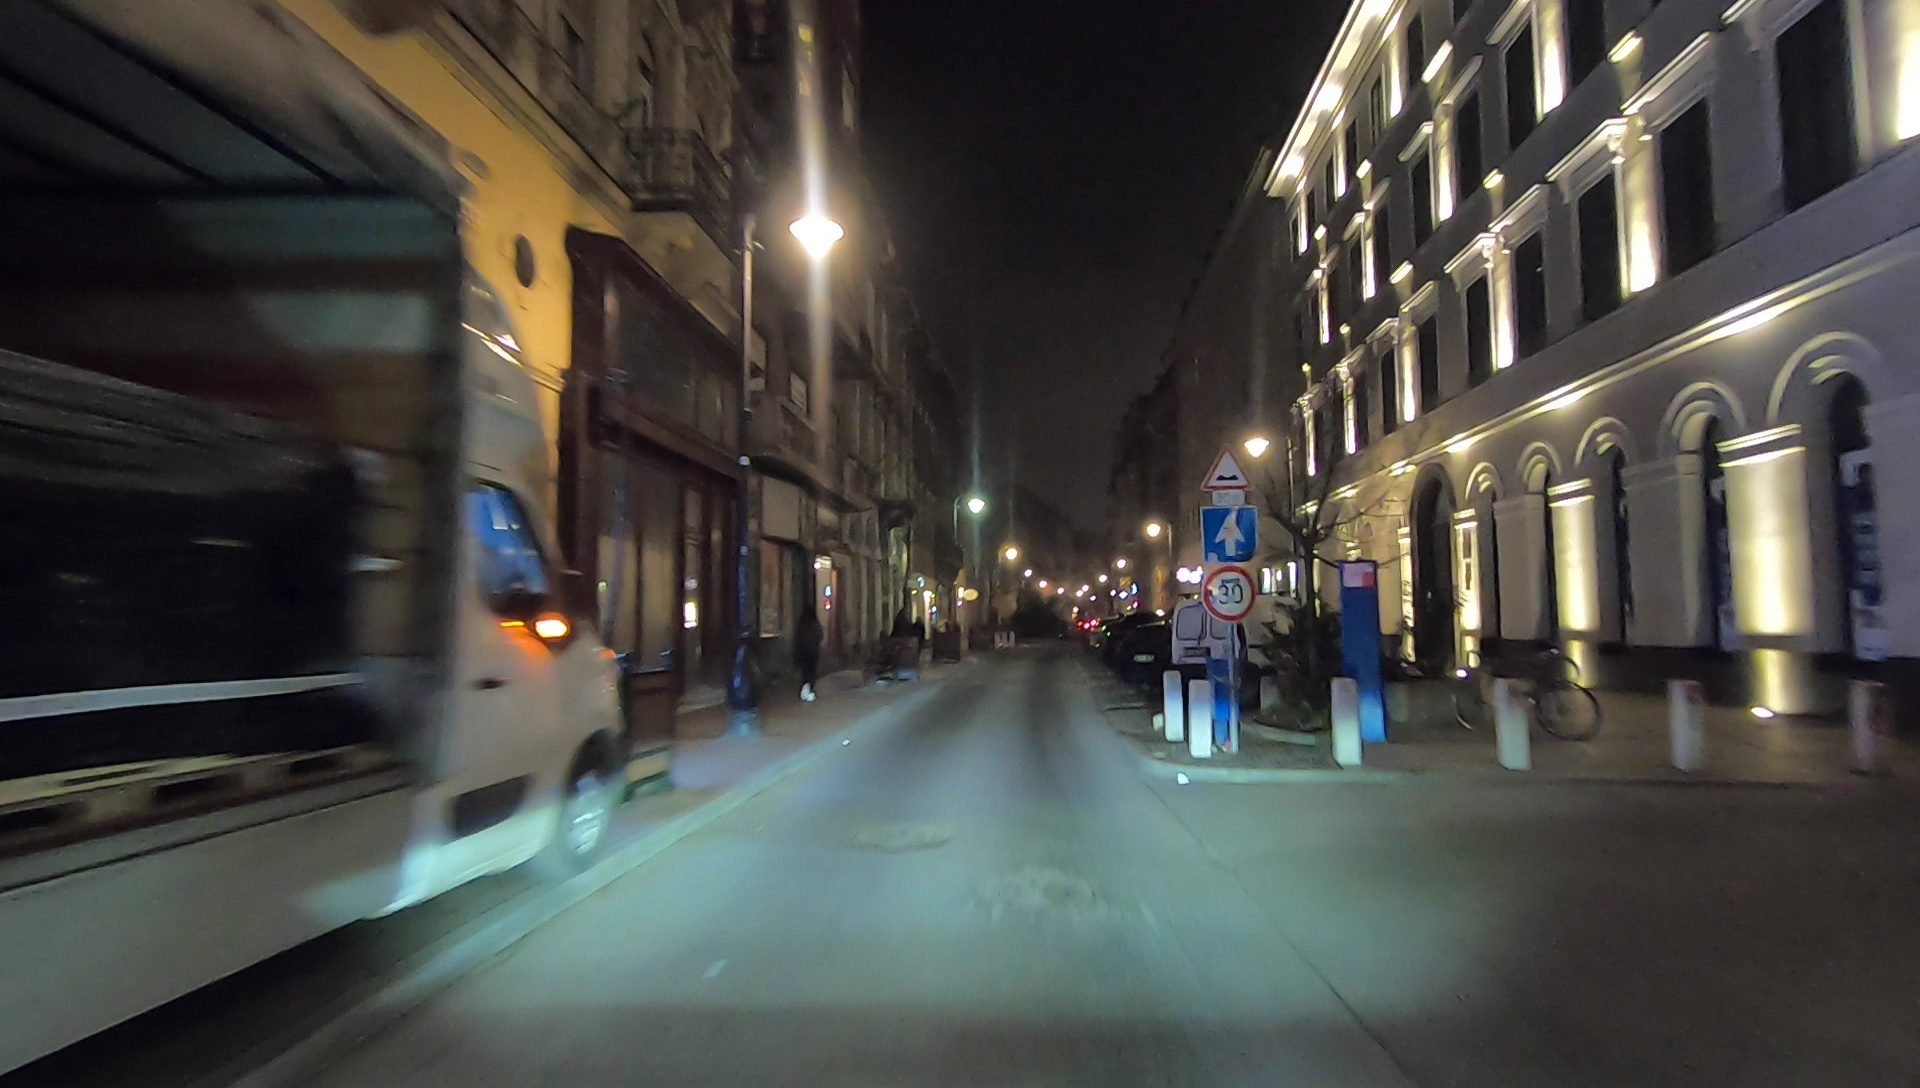person: (795, 599, 825, 702)
